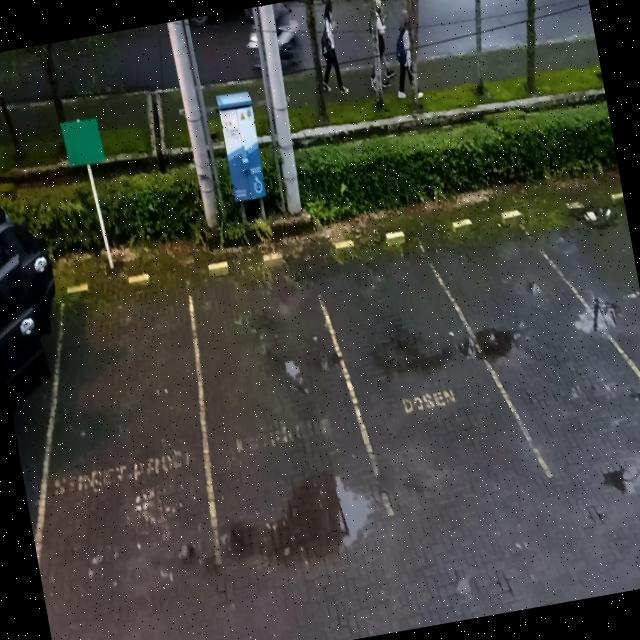empty: (15, 259, 238, 594), (169, 238, 378, 562), (321, 219, 512, 525), (454, 198, 634, 487), (578, 182, 640, 443)
